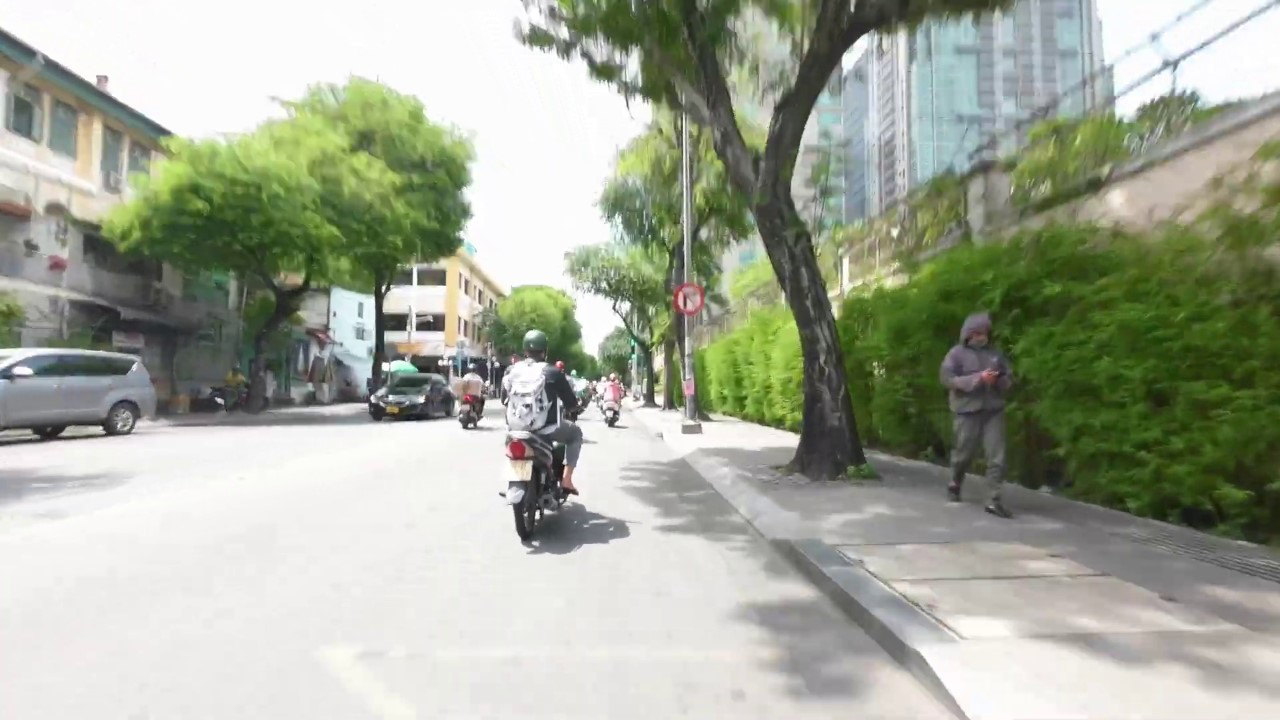cam_re_phai: (673, 283, 705, 314)
